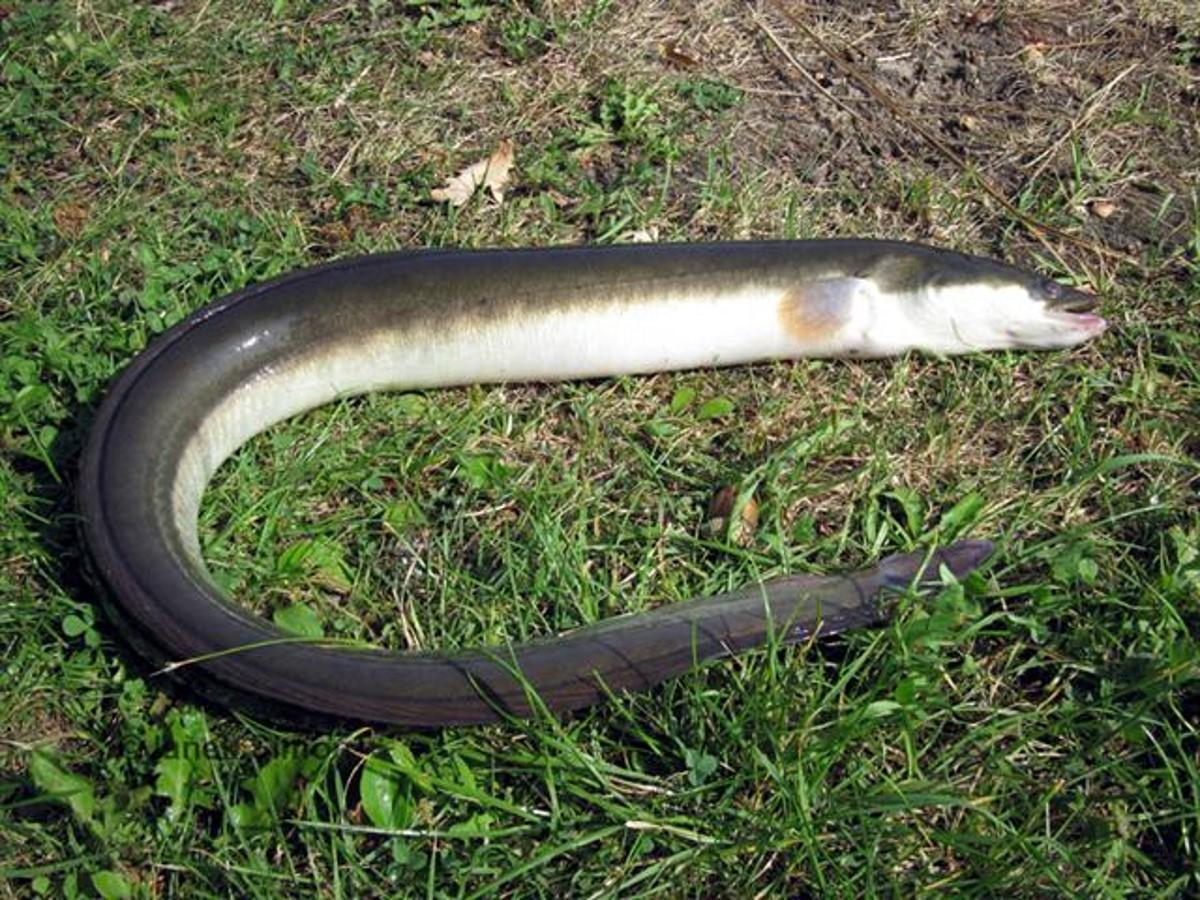Freshwater Eel: (71, 230, 1110, 738)
